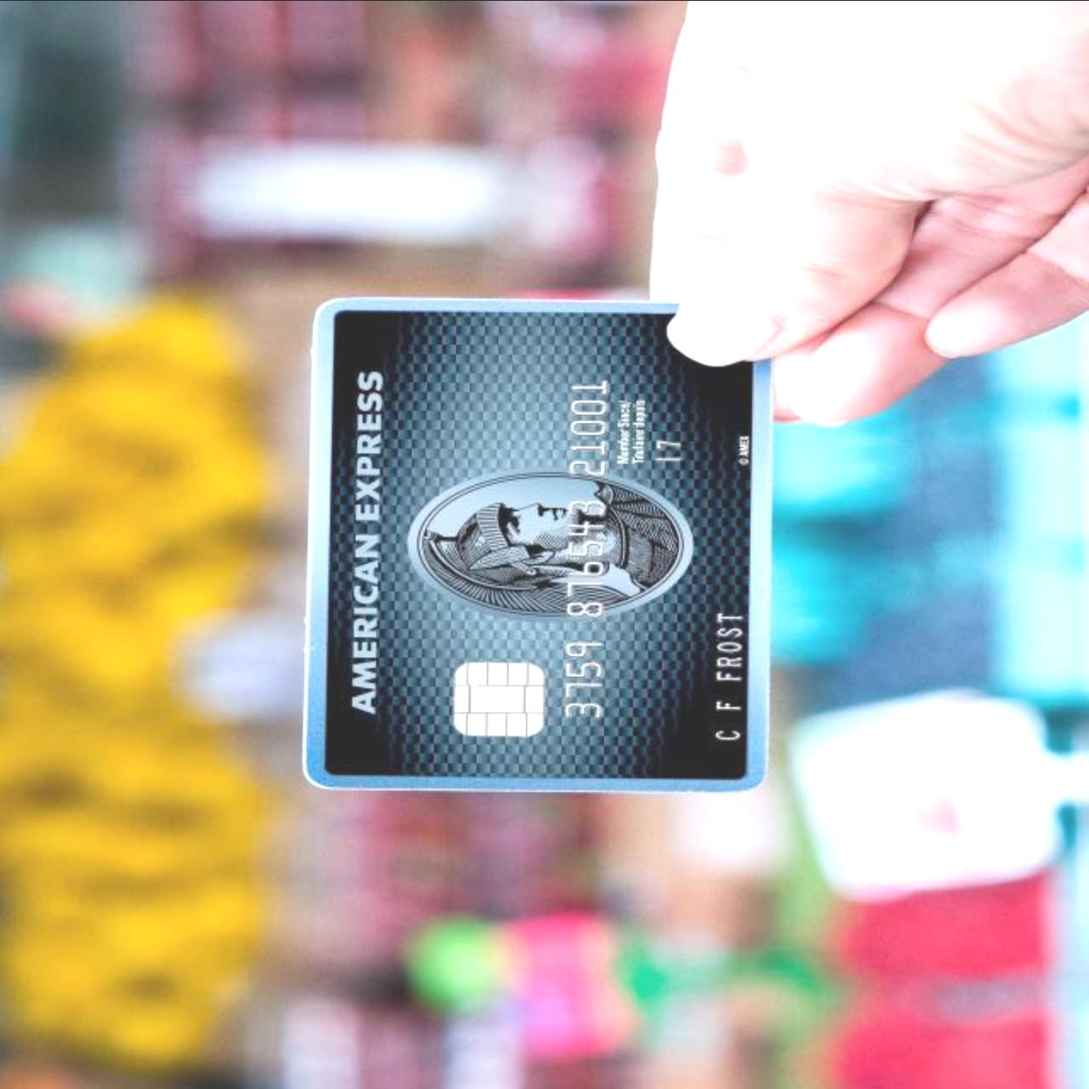credit_card: (310, 286, 776, 793)
